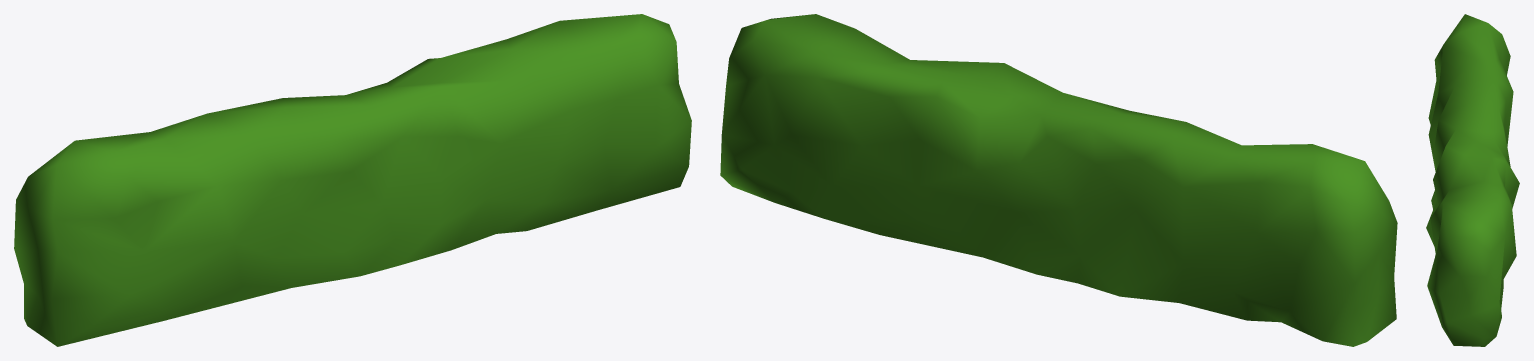
File: Hedge_geo.fbx
The picture shows the model from 3 angles, left to right: view 1: azimuth 30°, elevation 25°; view 2: azimuth 150°, elevation 25°; view 3: azimuth 270°, elevation 25°; orthographic projection. The views are drawn at different scales.
Visible parts, largest first — view 1: Hedge_geo; view 2: Hedge_geo; view 3: Hedge_geo.
Boxes of the visible parts, x1,y1,x2,y2 form: Hedge_geo: (14, 14, 691, 346); Hedge_geo: (720, 14, 1397, 346); Hedge_geo: (1426, 14, 1519, 346).
Bounding box in the file's own units: 2.97 × 0.5283 × 0.7592.
